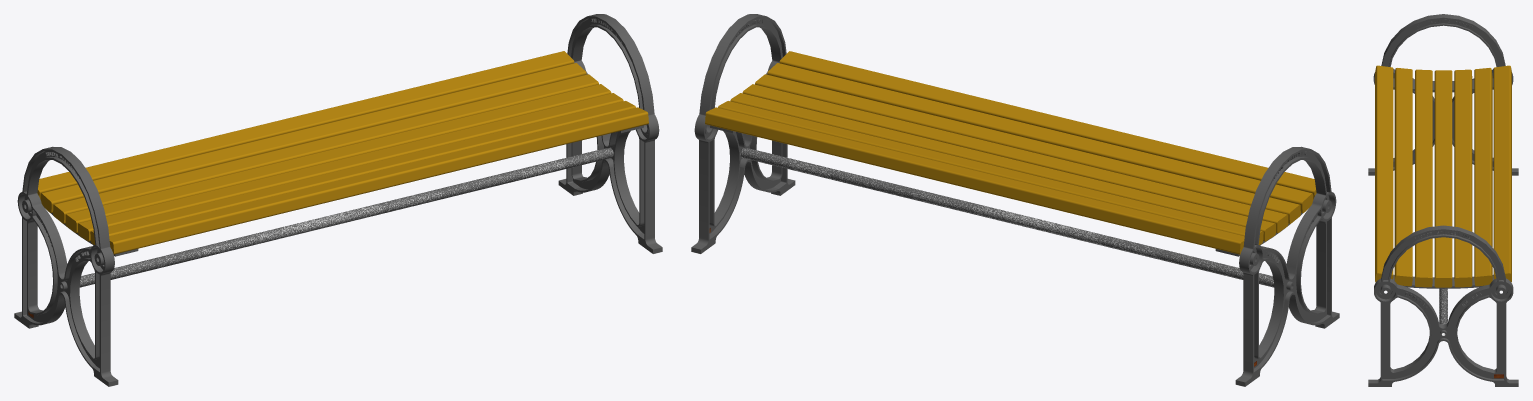
3 renders of one model, left to right at view 1: azimuth 30°, elevation 25°; view 2: azimuth 150°, elevation 25°; view 3: azimuth 270°, elevation 25°, orthographic. The views are drawn at different scales.
Visible parts, largest first — view 1: mesh20_mesh20-geometry, mesh4_mesh4-geometry, mesh8_mesh8-geometry, mesh10_mesh10-geometry, mesh110_mesh110-geometry, mesh7_mesh7-geometry, mesh5_mesh5-geometry, mesh9_mesh9-geometry, mesh200_mesh200-geometry, mesh6_mesh6-geometry; view 2: mesh20_mesh20-geometry, mesh8_mesh8-geometry, mesh6_mesh6-geometry, mesh4_mesh4-geometry, mesh110_mesh110-geometry, mesh9_mesh9-geometry, mesh5_mesh5-geometry, mesh7_mesh7-geometry, mesh200_mesh200-geometry, mesh10_mesh10-geometry; view 3: mesh110_mesh110-geometry, mesh5_mesh5-geometry, mesh7_mesh7-geometry, mesh10_mesh10-geometry, mesh6_mesh6-geometry, mesh4_mesh4-geometry, mesh8_mesh8-geometry, mesh9_mesh9-geometry, mesh20_mesh20-geometry, mesh200_mesh200-geometry, mesh18_mesh18-geometry, mesh2_mesh2-geometry.
Part boxes in pixels (x1,y1,x2,y2): mesh20_mesh20-geometry: (14, 146, 118, 386); mesh4_mesh4-geometry: (109, 107, 648, 254); mesh8_mesh8-geometry: (37, 51, 574, 198); mesh10_mesh10-geometry: (40, 63, 586, 213); mesh110_mesh110-geometry: (558, 14, 662, 253); mesh7_mesh7-geometry: (53, 74, 598, 223); mesh5_mesh5-geometry: (65, 84, 611, 233); mesh9_mesh9-geometry: (78, 93, 623, 241); mesh200_mesh200-geometry: (80, 147, 613, 287); mesh6_mesh6-geometry: (90, 101, 635, 244); mesh20_mesh20-geometry: (1235, 146, 1339, 386); mesh8_mesh8-geometry: (705, 107, 1244, 254); mesh6_mesh6-geometry: (767, 63, 1313, 213); mesh4_mesh4-geometry: (779, 51, 1316, 199); mesh110_mesh110-geometry: (691, 14, 795, 253); mesh9_mesh9-geometry: (755, 74, 1300, 223); mesh5_mesh5-geometry: (742, 84, 1288, 232); mesh7_mesh7-geometry: (730, 93, 1275, 241); mesh200_mesh200-geometry: (740, 148, 1273, 287); mesh10_mesh10-geometry: (718, 101, 1263, 244); mesh110_mesh110-geometry: (1368, 225, 1518, 386); mesh5_mesh5-geometry: (1434, 70, 1452, 287); mesh7_mesh7-geometry: (1454, 69, 1472, 287); mesh10_mesh10-geometry: (1474, 68, 1492, 286); mesh6_mesh6-geometry: (1394, 68, 1412, 286); mesh4_mesh4-geometry: (1375, 65, 1393, 282); mesh8_mesh8-geometry: (1493, 65, 1511, 282); mesh9_mesh9-geometry: (1415, 69, 1432, 287); mesh20_mesh20-geometry: (1368, 14, 1518, 175); mesh200_mesh200-geometry: (1439, 288, 1447, 335); mesh18_mesh18-geometry: (1393, 274, 1493, 288); mesh2_mesh2-geometry: (1393, 78, 1493, 92).
Bounding box in the file's own units: 0.9113 × 0.3115 × 0.2692.
